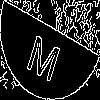M: (25, 25, 65, 84)
